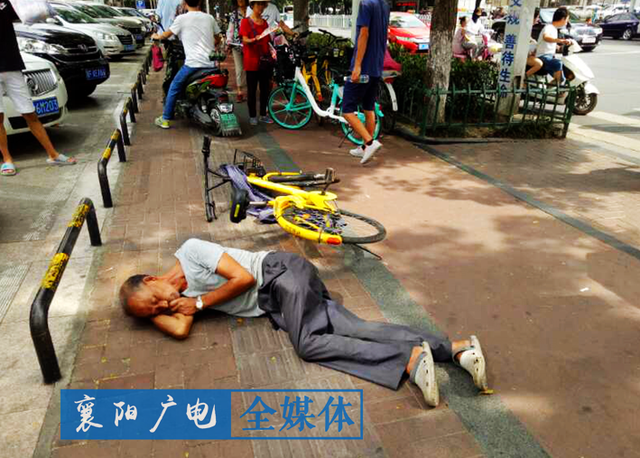10+: (1, 1, 636, 417)
down: (113, 227, 502, 420)
